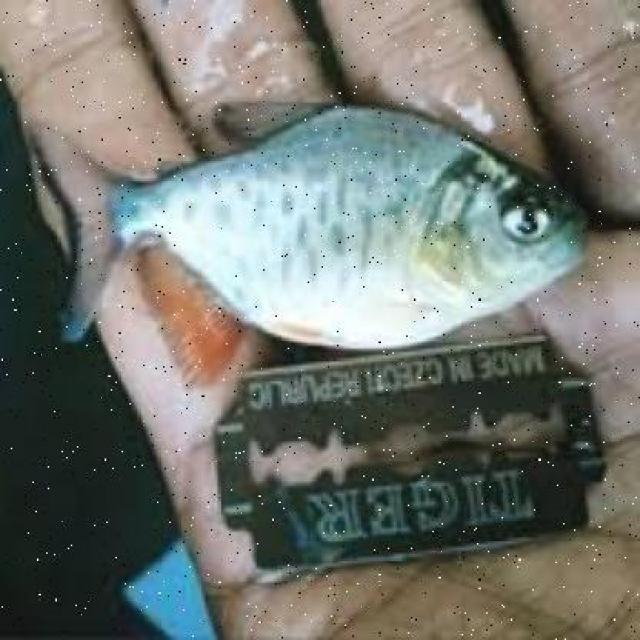ikan-pacu: (63, 96, 583, 344)
